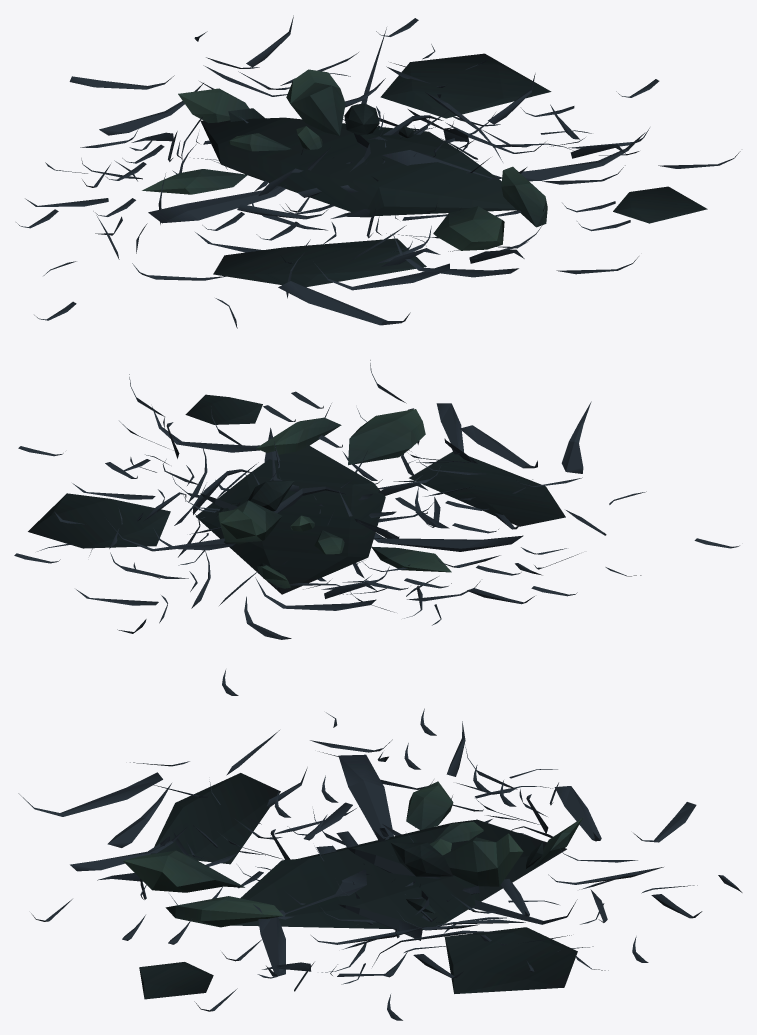
The model's file is ashes.fbx.
3 views of the same model, one above another, from view 1: azimuth 30°, elevation 25°; view 2: azimuth 150°, elevation 25°; view 3: azimuth 270°, elevation 25° (orthographic). The views are drawn at different scales.
Parts seen in each view (by area): view 1: ashes; view 2: ashes; view 3: ashes.
Boxes of the visible parts, left/top/right/bottom form: ashes: left=16, top=15, right=740, bottom=328; ashes: left=14, top=360, right=739, bottom=639; ashes: left=18, top=670, right=742, bottom=1020.
Bounding box in the file's own units: 3.4 × 0.3444 × 3.01.
